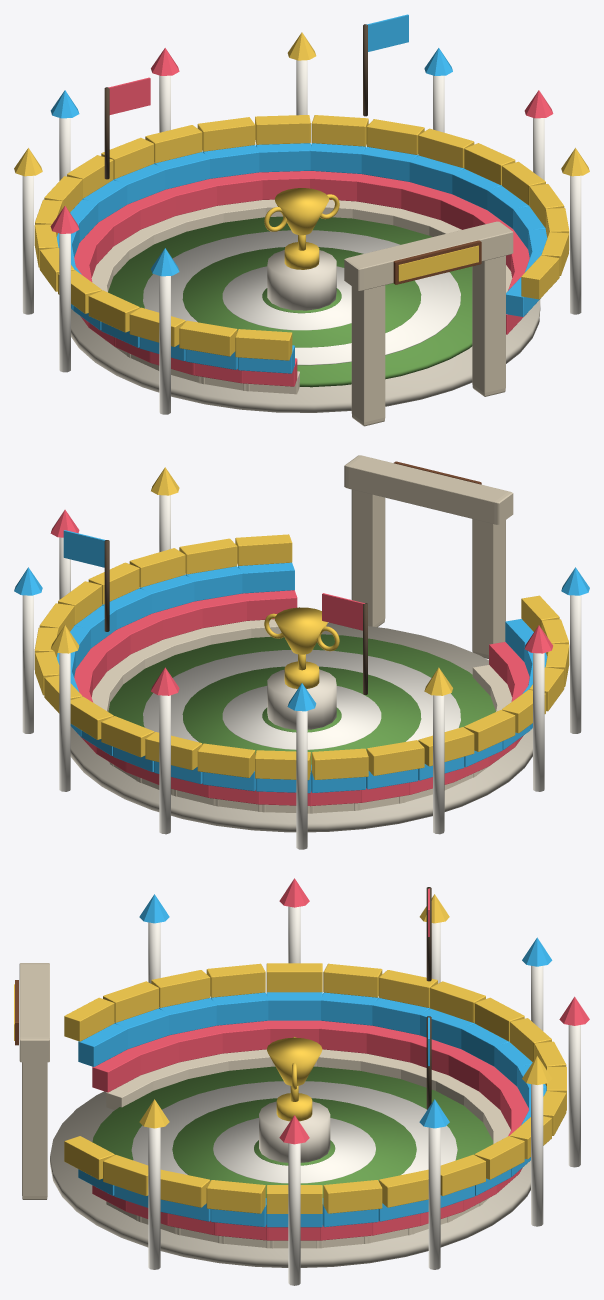
The model's file is arena.glb.
3 renders of one model, top to bottom at view 1: azimuth 30°, elevation 25°; view 2: azimuth 150°, elevation 25°; view 3: azimuth 270°, elevation 25°, orthographic. The views are drawn at different scales.
Parts seen in each view (by area): view 1: arena; view 2: arena; view 3: arena.
Part boxes in pixels (x1,y1,x2,y2): arena: [14, 14, 589, 426]; arena: [14, 455, 589, 849]; arena: [14, 878, 589, 1285].
Size of the model in its own units: 11.6 by 4.6 by 11.31.
1 material, 1 textured.
